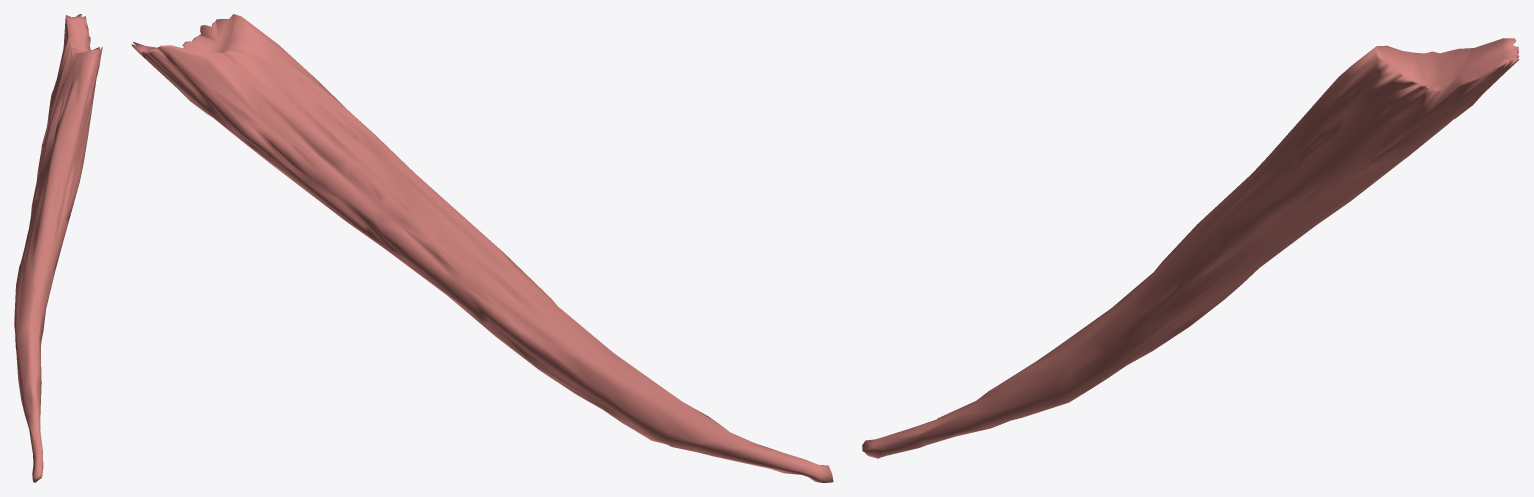
3 views of the same model, side by side, from view 1: azimuth 30°, elevation 25°; view 2: azimuth 150°, elevation 25°; view 3: azimuth 270°, elevation 25° (orthographic). The views are drawn at different scales.
Parts seen in each view (by area): view 1: ZA_2580449cdd70cd24; view 2: ZA_2580449cdd70cd24; view 3: ZA_2580449cdd70cd24.
Boxes of the visible parts, x1,y1,x2,y2 form: ZA_2580449cdd70cd24: (14, 14, 102, 482); ZA_2580449cdd70cd24: (131, 14, 833, 482); ZA_2580449cdd70cd24: (862, 38, 1519, 458).
Size of the model in its own units: 0.0469 by 0.0641 by 0.0631.
